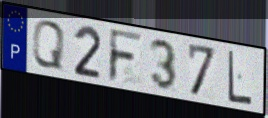2: (72, 24, 103, 82)
3: (149, 37, 179, 92)
7: (186, 41, 218, 99)
F: (106, 27, 145, 86)
L: (227, 48, 253, 107)
Q: (30, 19, 67, 72)
